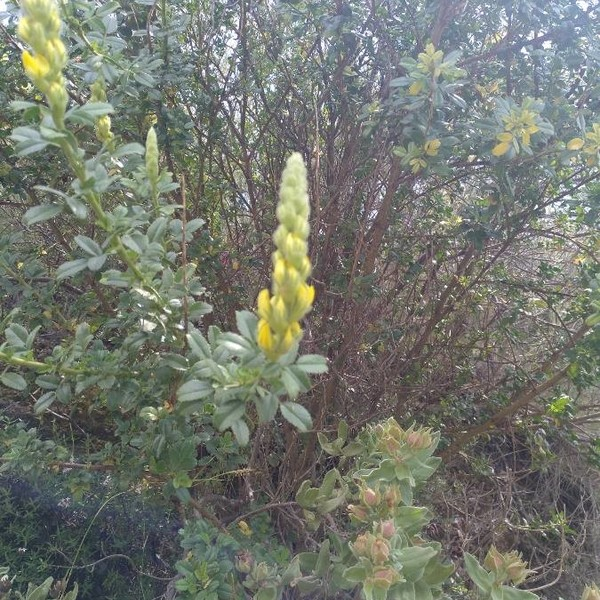obstacle: (25, 78, 321, 463)
